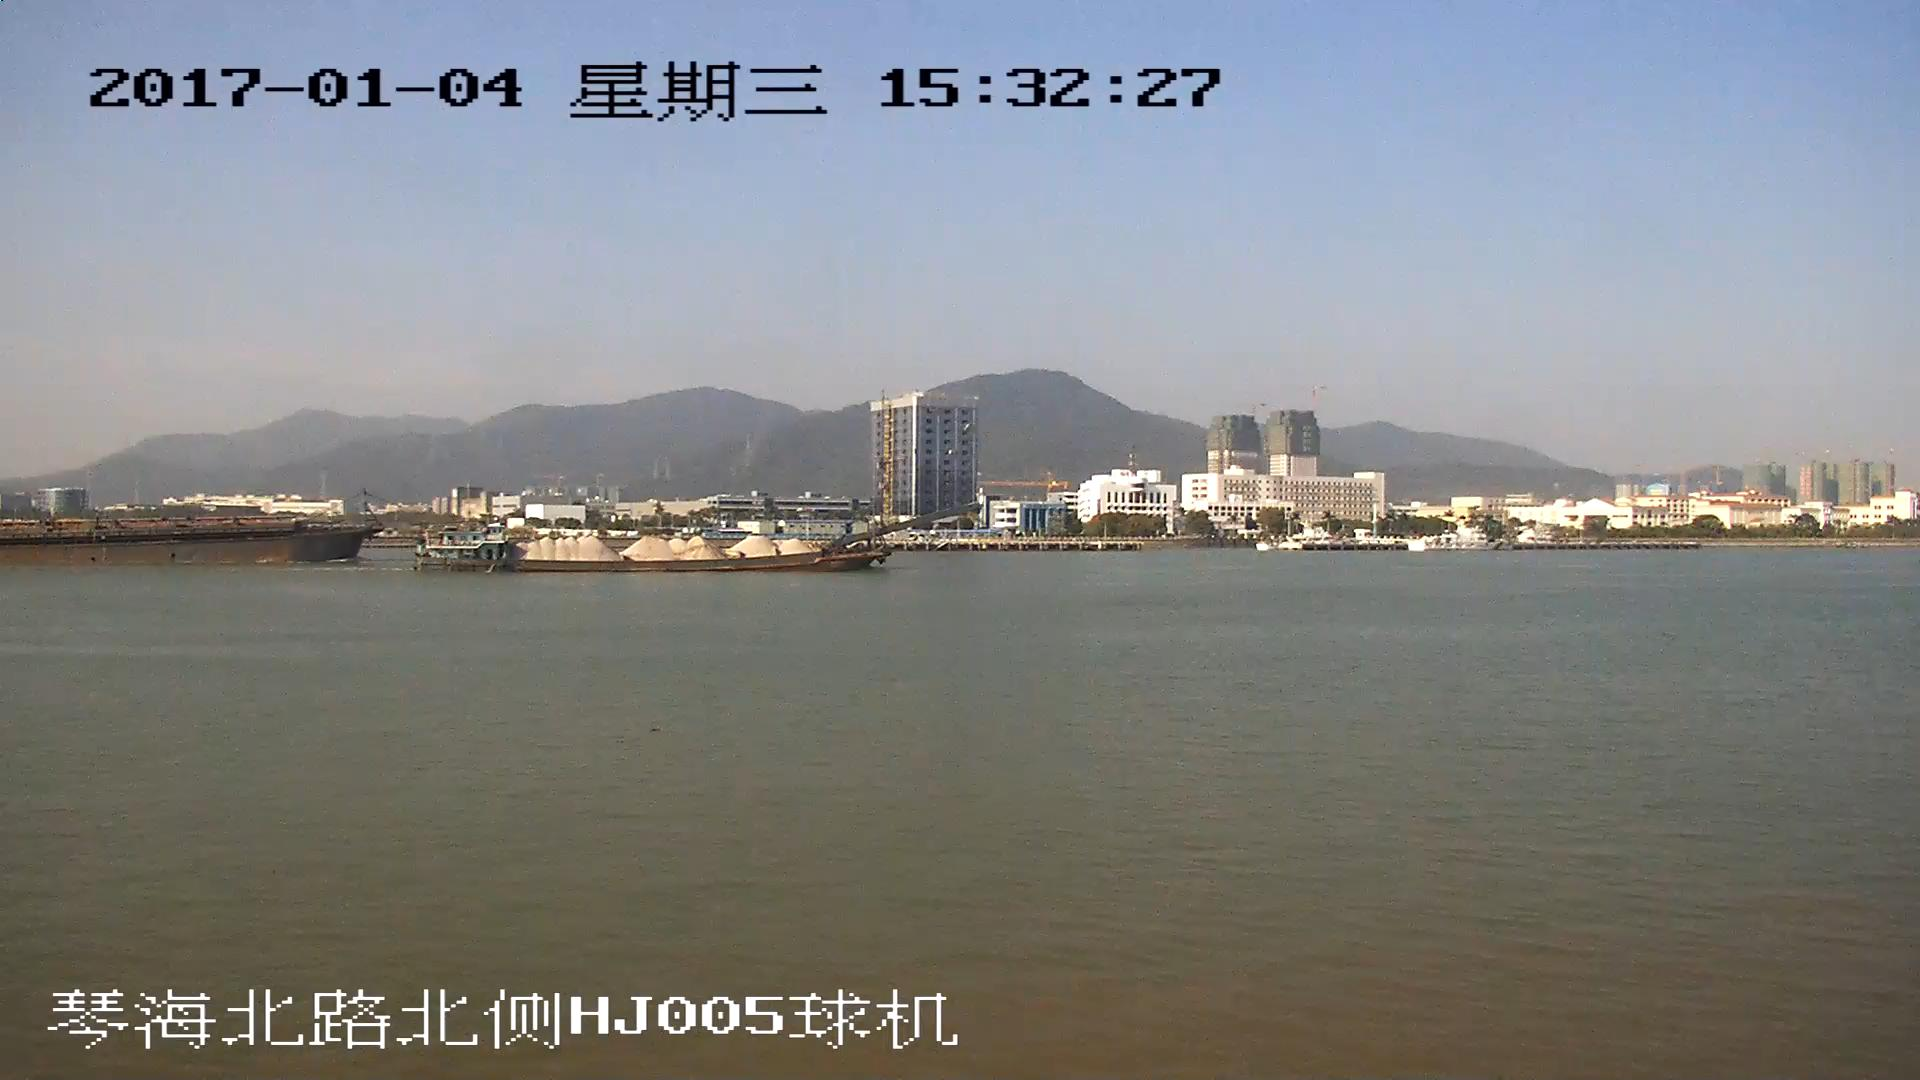bulk cargo carrier: (1, 502, 377, 568)
ore carrier: (412, 505, 978, 577)
